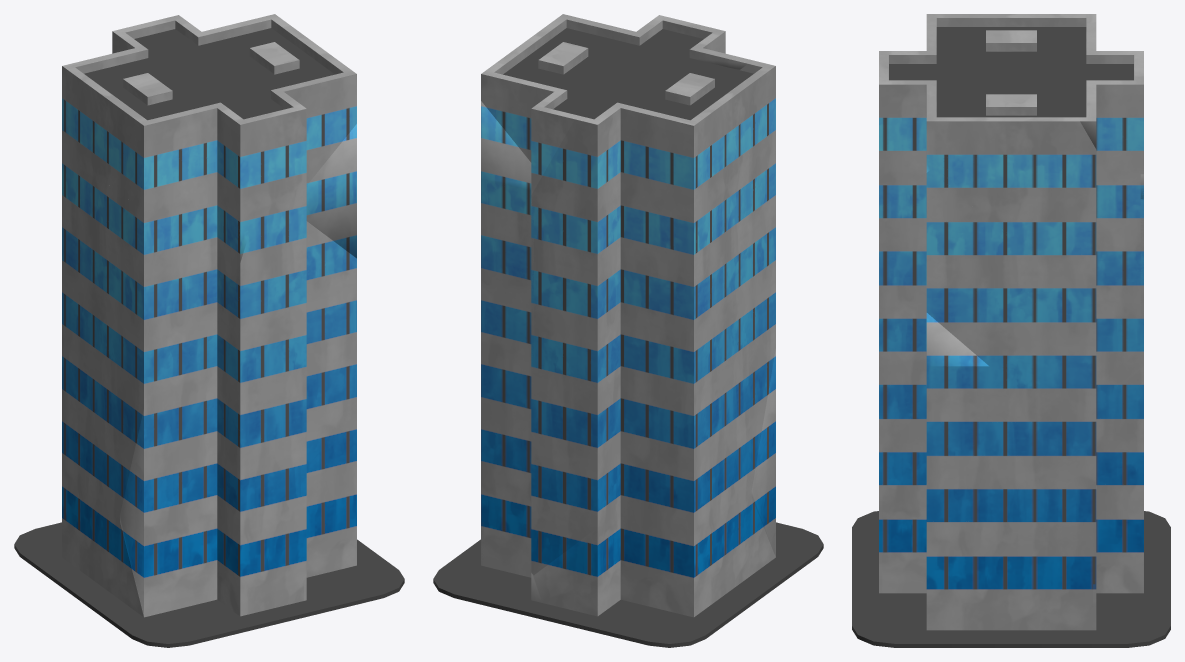
File: Building3Parts.fbx
3 views of the same model, side by side, from view 1: azimuth 30°, elevation 25°; view 2: azimuth 150°, elevation 25°; view 3: azimuth 270°, elevation 25° (orthographic). The views are drawn at different scales.
Visible parts, largest first — view 1: Building3.011, Building3.018, Building3.024, Building3.013, Building3.002, Building3.009, Building3.019, Building3.004, Building3.025, Building3.010, Building3.005, Building3.026 (+10 smaller); view 2: Building3.020, Building3.019, Building3.006, Building3.016, Building3.002, Building3.005, Building3.022, Building3.015, Building3.028, Building3.014, Building3.011, Building3.007 (+10 smaller); view 3: Building3.028, Building3.008, Building3.014, Building3.002, Building3.012, Building3.025, Building3.027, Building3.020, Building3.013, Building3.026, Building3.007, Building3.009 (+9 smaller).
Part boxes in pixels (box(x1,y1,x2,y2)): Building3.011: box(85, 181, 247, 408); Building3.018: box(120, 398, 217, 617); Building3.024: box(168, 414, 306, 616); Building3.013: box(240, 221, 356, 430); Building3.002: box(14, 522, 404, 647); Building3.009: box(226, 64, 356, 240); Building3.019: box(62, 338, 143, 514); Building3.004: box(103, 81, 226, 210); Building3.025: box(240, 382, 356, 600); Building3.010: box(159, 79, 283, 232); Building3.005: box(62, 57, 183, 227); Building3.026: box(306, 310, 356, 452); Building3.020: box(531, 356, 637, 575); Building3.019: box(637, 342, 775, 532); Building3.006: box(531, 81, 658, 277); Building3.016: box(620, 242, 736, 398); Building3.002: box(433, 522, 823, 647); Building3.005: box(639, 84, 734, 253); Building3.022: box(620, 491, 751, 617); Building3.015: box(531, 221, 620, 385); Building3.028: box(481, 346, 531, 532); Building3.014: box(481, 178, 533, 369); Building3.011: box(717, 151, 775, 348); Building3.007: box(481, 68, 630, 218); Building3.028: box(964, 380, 1096, 615); Building3.008: box(930, 73, 1096, 270); Building3.014: box(1009, 199, 1143, 403); Building3.002: box(852, 511, 1170, 647); Building3.012: box(926, 170, 1047, 371); Building3.025: box(879, 366, 926, 593); Building3.027: box(926, 509, 1096, 630); Building3.020: box(1096, 355, 1143, 564); Building3.013: box(879, 205, 988, 366); Building3.026: box(926, 366, 1013, 509); Building3.007: box(1018, 62, 1143, 199); Building3.009: box(879, 73, 989, 205).
Size of the model in its own units: 9.2 by 16.32 by 9.2.
